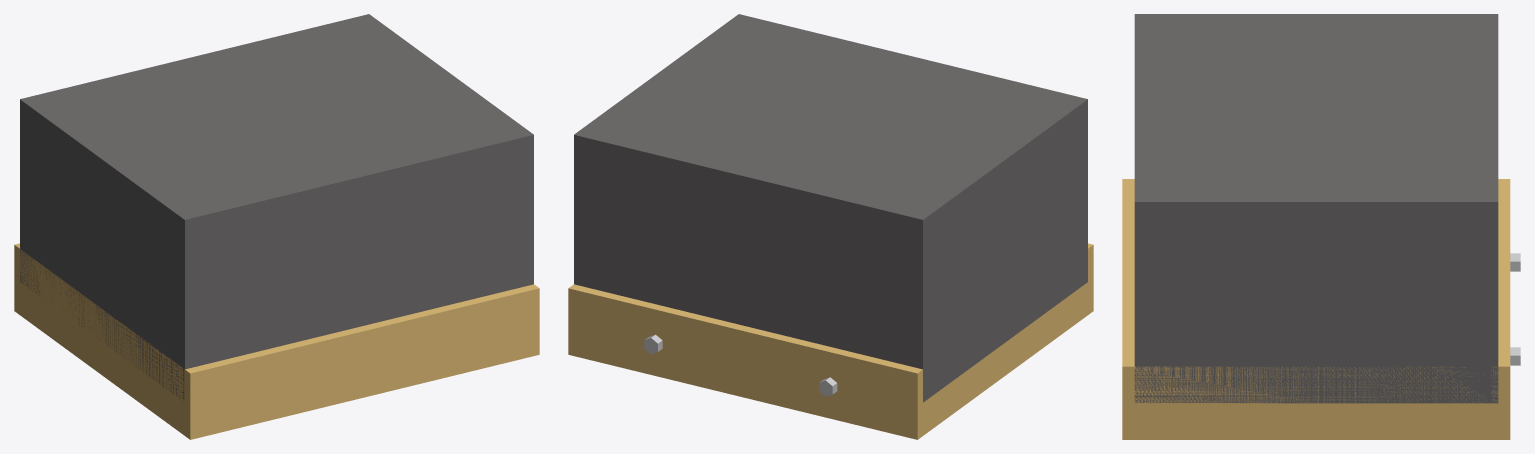
The model's file is CO_Tile_12.fbx.
The picture shows the model from 3 angles, left to right: view 1: azimuth 30°, elevation 25°; view 2: azimuth 150°, elevation 25°; view 3: azimuth 270°, elevation 25°; orthographic projection. The views are drawn at different scales.
Parts seen in each view (by area): view 1: CO_Tile_12; view 2: CO_Tile_12; view 3: CO_Tile_12.
Boxes of the visible parts, x1,y1,x2,y2 form: CO_Tile_12: (14, 14, 539, 439); CO_Tile_12: (568, 14, 1093, 439); CO_Tile_12: (1122, 14, 1520, 439).
Bounding box in the file's own units: 1.1 × 0.65 × 0.985.
